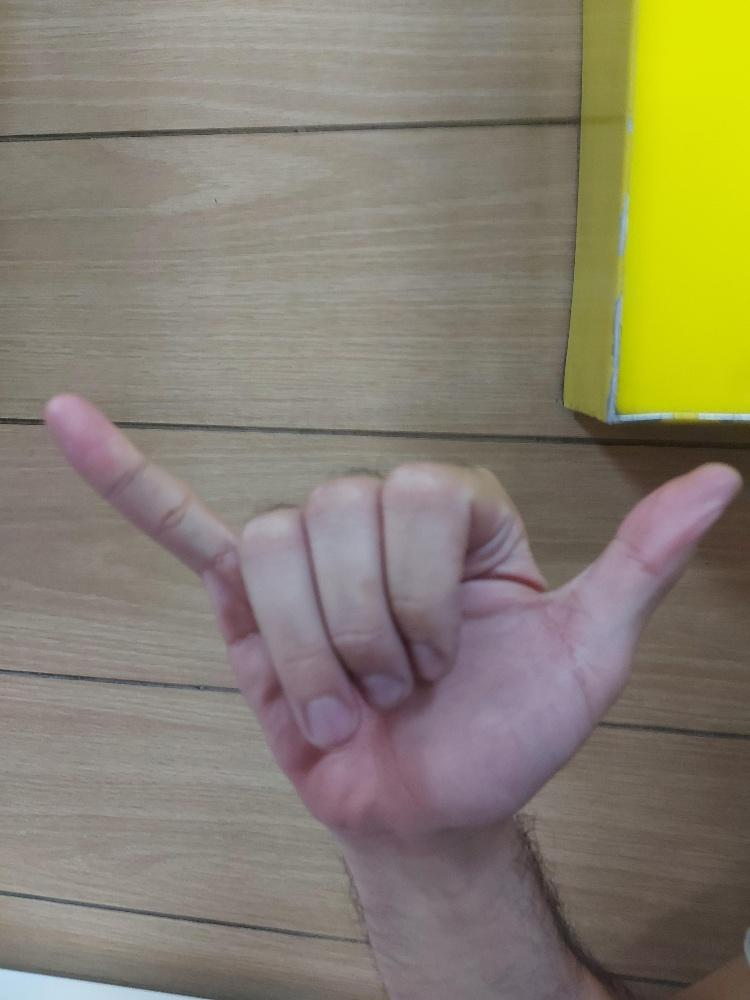y: (40, 388, 745, 831)
